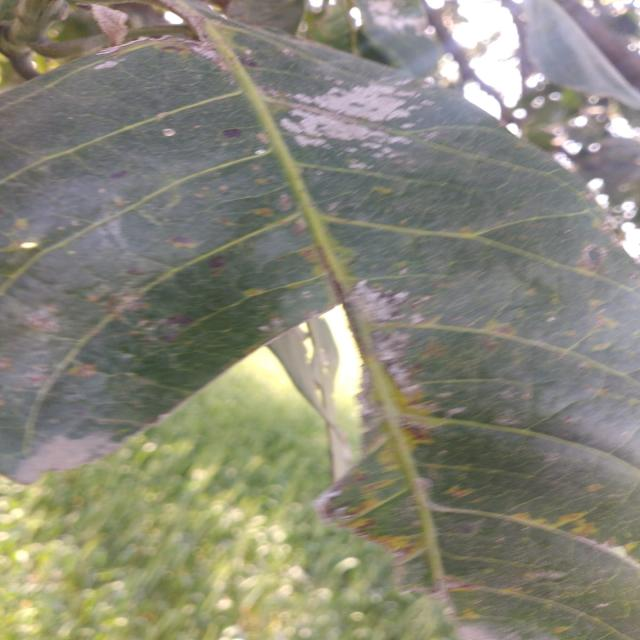Powdery Mildew: (318, 84, 418, 125)
